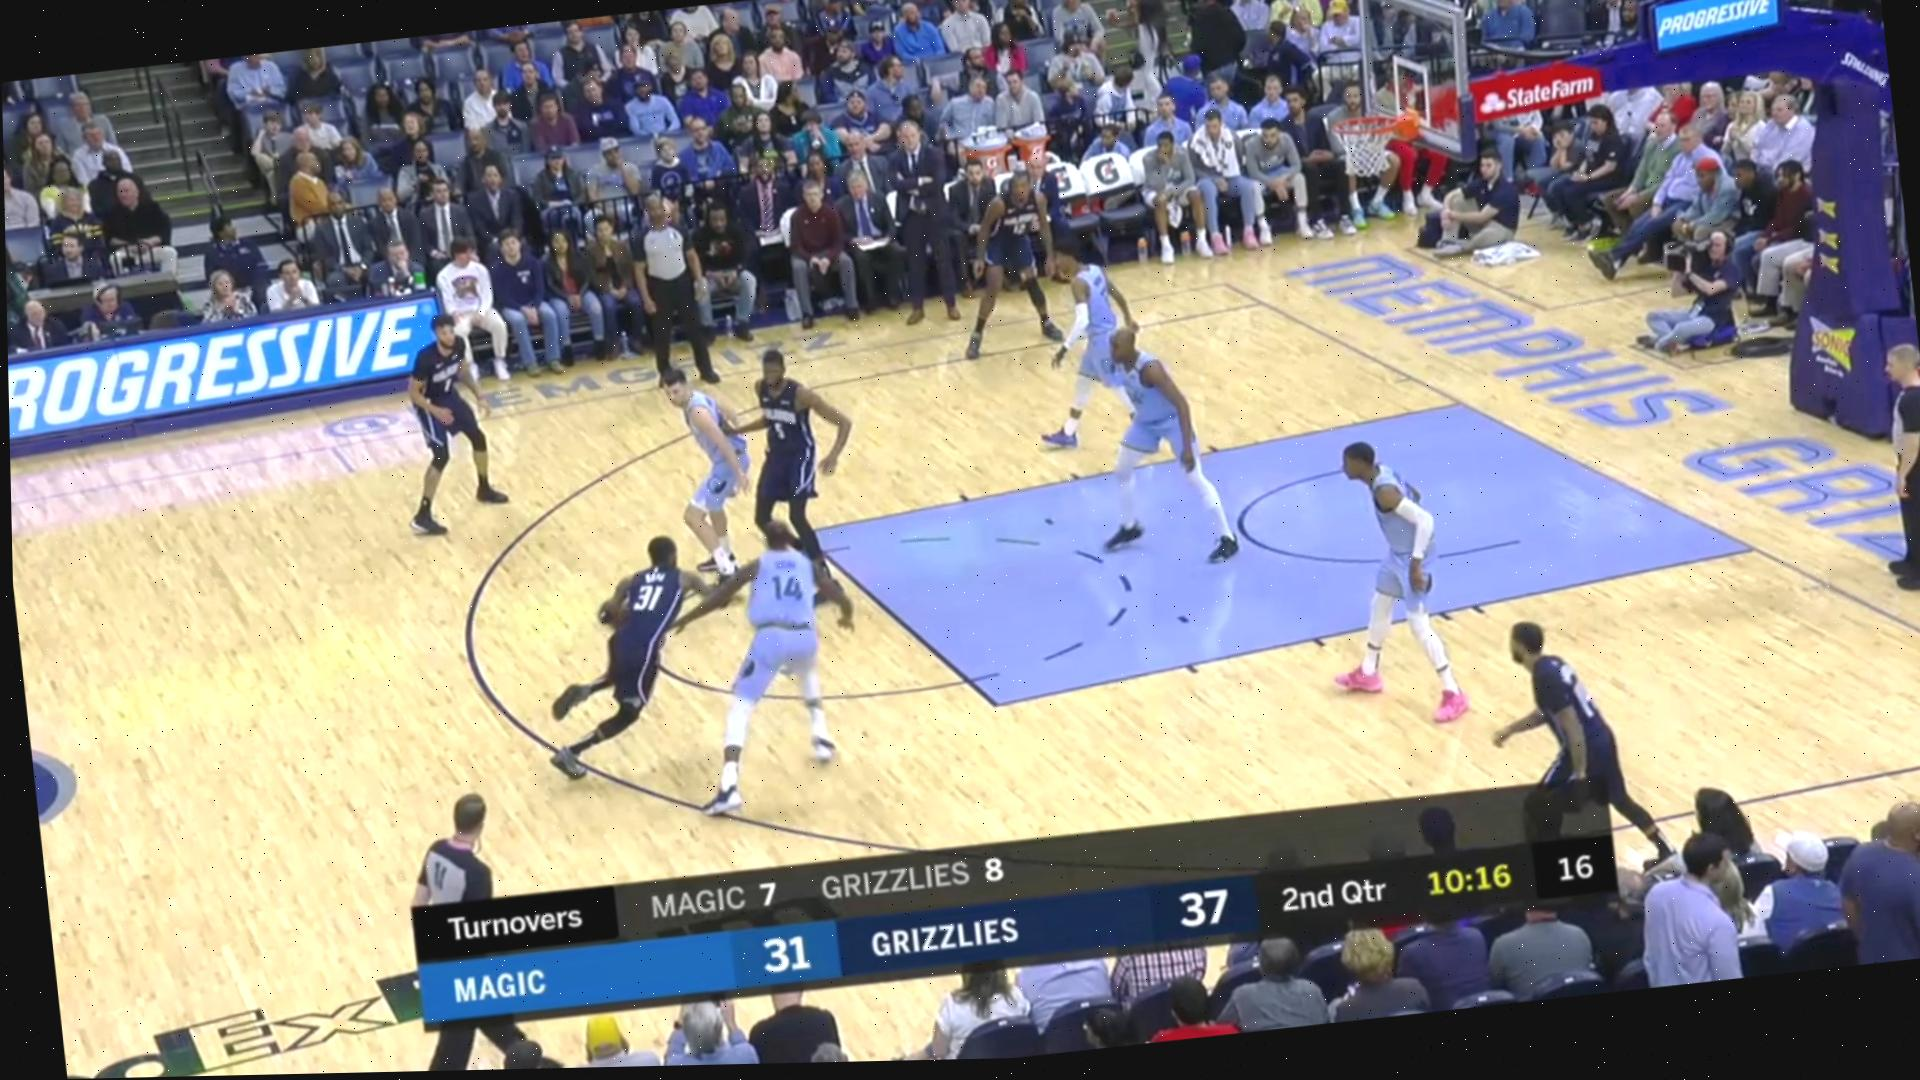no_foul: (590, 516, 866, 773)
